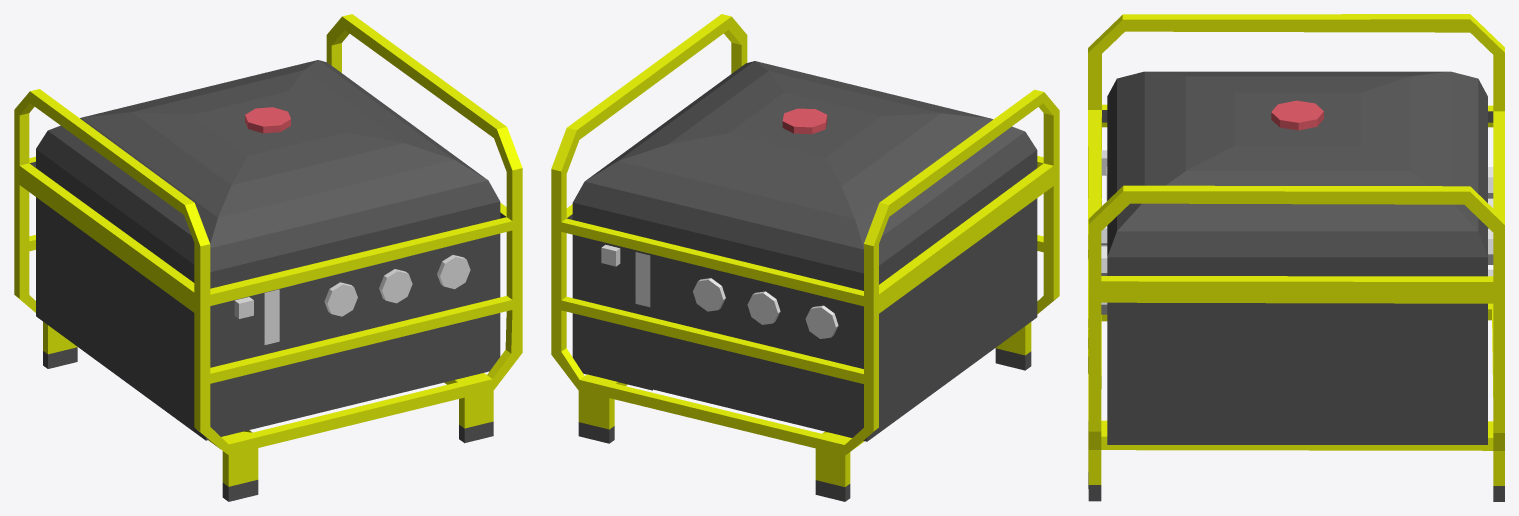
File: generator 1.fbx
3 renders of one model, left to right at view 1: azimuth 30°, elevation 25°; view 2: azimuth 150°, elevation 25°; view 3: azimuth 270°, elevation 25°, orthographic. The views are drawn at different scales.
Visible parts, largest first — view 1: Element 1, Element 2, Element 3, ConnectButton 6, ConnectButton 4, ConnectButton 5, ProgressButton 1; view 2: Element 1, Element 2, Element 3, ConnectButton 3, ConnectButton 1, ProgressButton 2, ConnectButton 2; view 3: Element 1, Element 2, Element 3.
Part boxes in pixels (x1,y1,x2,y2): Element 1: [36, 60, 500, 440]; Element 2: [14, 14, 522, 501]; Element 3: [245, 107, 290, 133]; ConnectButton 6: [324, 282, 357, 316]; ConnectButton 4: [437, 255, 470, 289]; ConnectButton 5: [379, 269, 412, 303]; ProgressButton 1: [264, 289, 279, 344]; Element 1: [572, 61, 1037, 441]; Element 2: [551, 14, 1059, 501]; Element 3: [782, 108, 827, 134]; ConnectButton 3: [693, 278, 725, 311]; ConnectButton 1: [805, 305, 838, 338]; ProgressButton 2: [635, 252, 650, 306]; ConnectButton 2: [747, 291, 780, 324]; Element 1: [1107, 71, 1487, 444]; Element 2: [1088, 14, 1504, 501]; Element 3: [1271, 100, 1323, 130].
Bounding box in the file's own units: 219 × 190 × 219.
